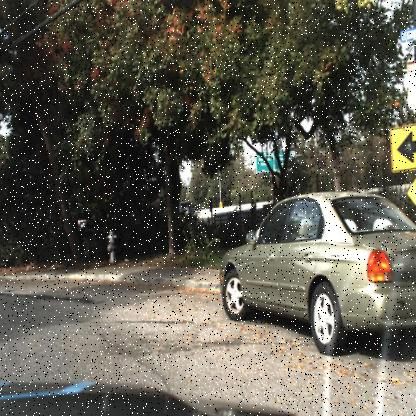car: (217, 190, 415, 358), (175, 196, 200, 224), (172, 198, 200, 218)
